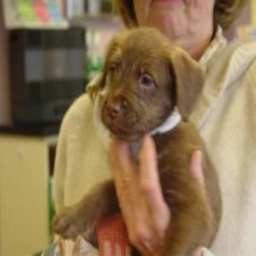dog: (94, 33, 226, 251)
